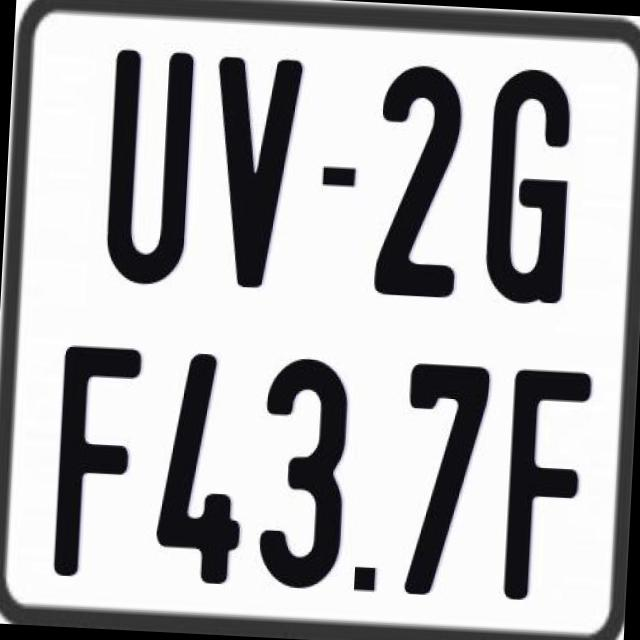2: (372, 61, 472, 296)
3: (258, 356, 357, 597)
4: (152, 350, 252, 593)
7: (397, 358, 488, 597)
F: (48, 342, 138, 586), (503, 367, 595, 601)
G: (482, 68, 578, 316)
U: (100, 50, 196, 289)
V: (206, 54, 302, 286)
